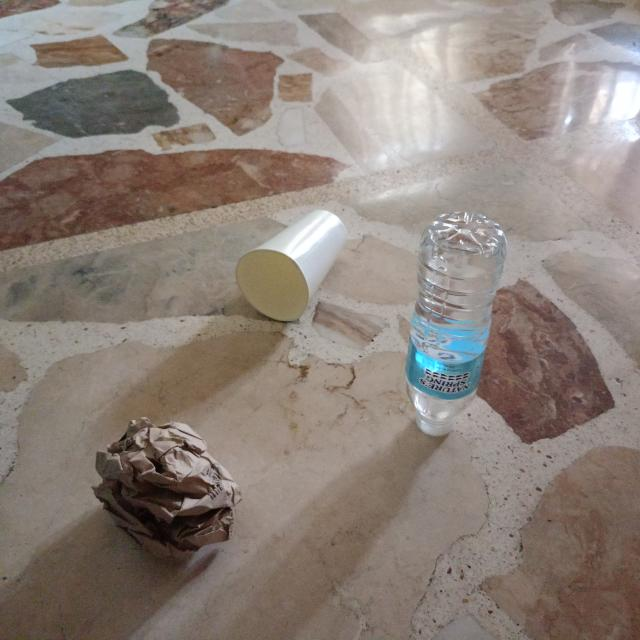Anorganik: (395, 204, 515, 447)
Organik: (77, 404, 250, 584), (225, 195, 354, 336)
